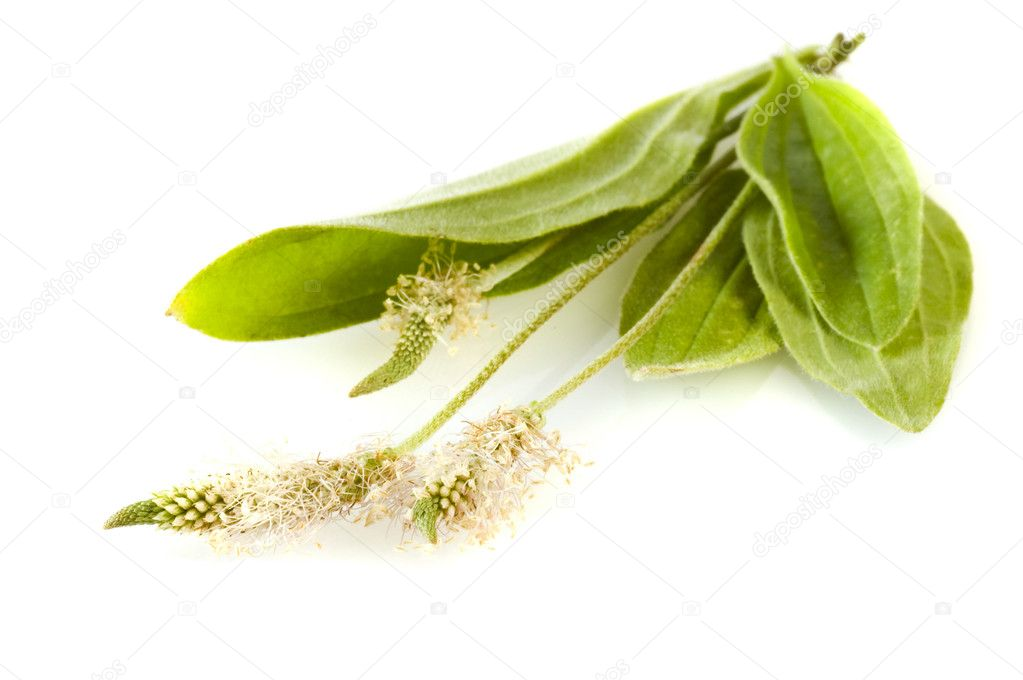buckhorn plantain: (88, 35, 981, 566), (105, 413, 597, 560)
